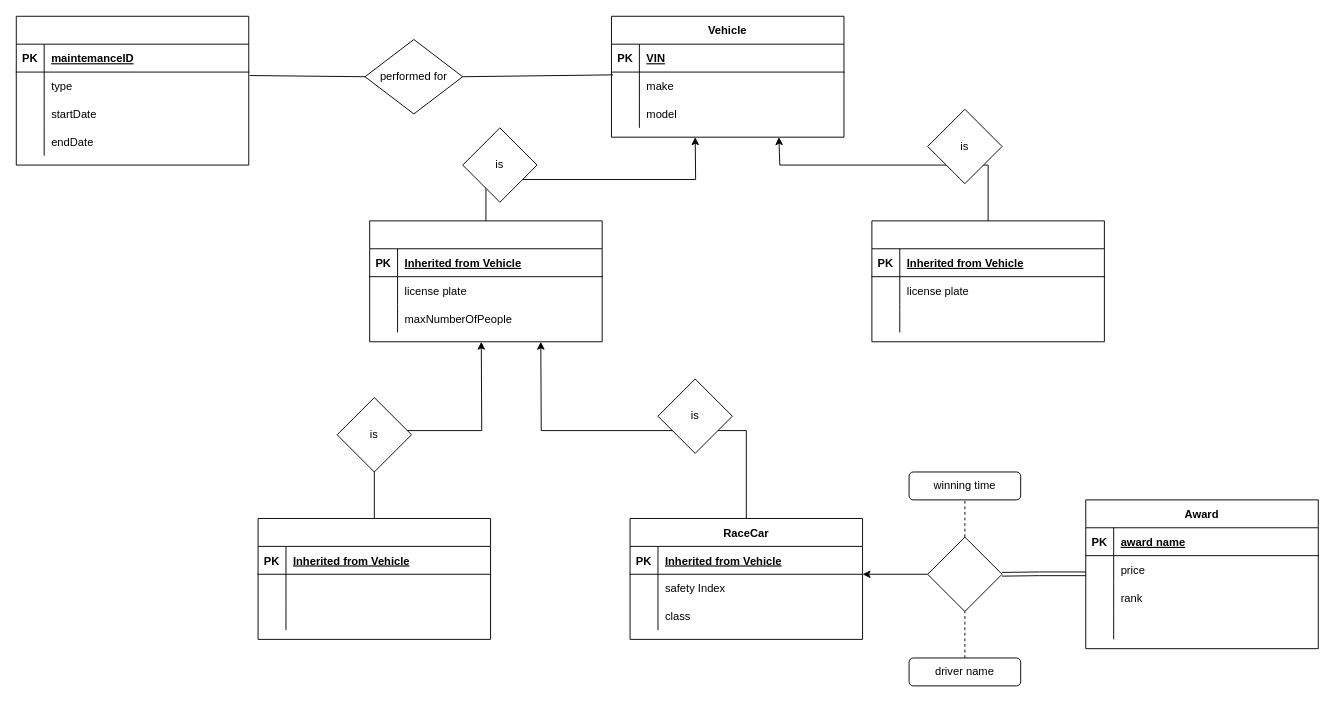
Some shapes in this 1335 by 702 pixel diagram are drawn without their labels. Each missing label, with the box of its shape:
Car: (257, 518, 491, 639)
Four-Wheel: (369, 220, 602, 342)
Maintenance: (15, 15, 249, 165)
Two-Wheel: (871, 220, 1104, 342)
wins: (927, 536, 1002, 611)
